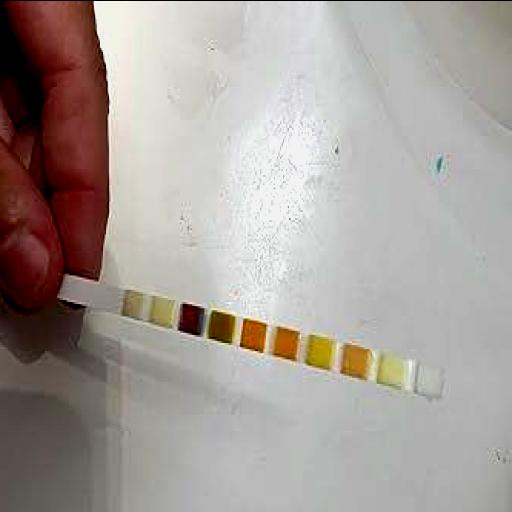Bilirubin: (153, 298, 171, 320)
Blood: (242, 322, 264, 344)
Glucose: (126, 292, 142, 314)
Ketone: (182, 306, 202, 328)
Leukocytes: (418, 368, 442, 392)
Nitrite: (380, 358, 404, 380)
Protein: (310, 338, 332, 362)
SpGravity: (211, 315, 231, 338)
Urobilinogen: (344, 348, 368, 370)
pH: (277, 331, 297, 352)
strip: (61, 272, 444, 397)
